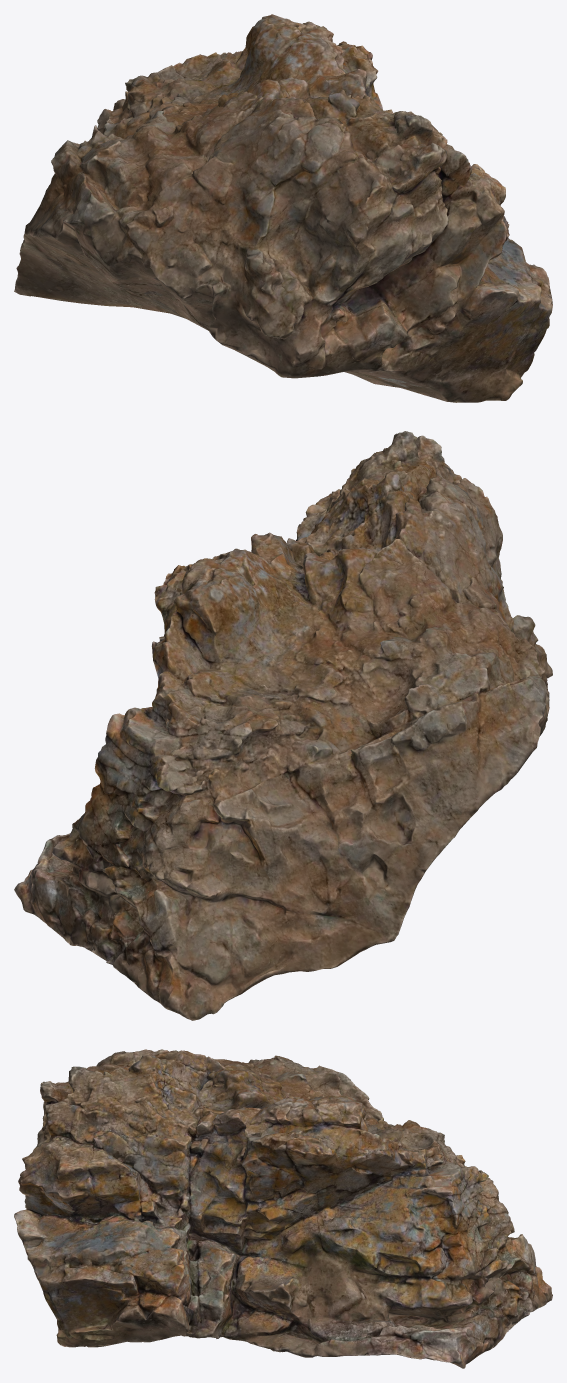
The model's file is boulder_01.glb.
3 views of the same model, one above another, from view 1: azimuth 30°, elevation 25°; view 2: azimuth 150°, elevation 25°; view 3: azimuth 270°, elevation 25° (orthographic). The views are drawn at different scales.
Parts seen in each view (by area): view 1: boulder_01; view 2: boulder_01; view 3: boulder_01.
Part boxes in pixels (x1,y1,x2,y2): boulder_01: (14, 14, 552, 402); boulder_01: (14, 431, 552, 1020); boulder_01: (14, 1049, 552, 1368).
Bounding box in the file's own units: 1.27 × 1 × 1.83.
1 material, 1 textured.
